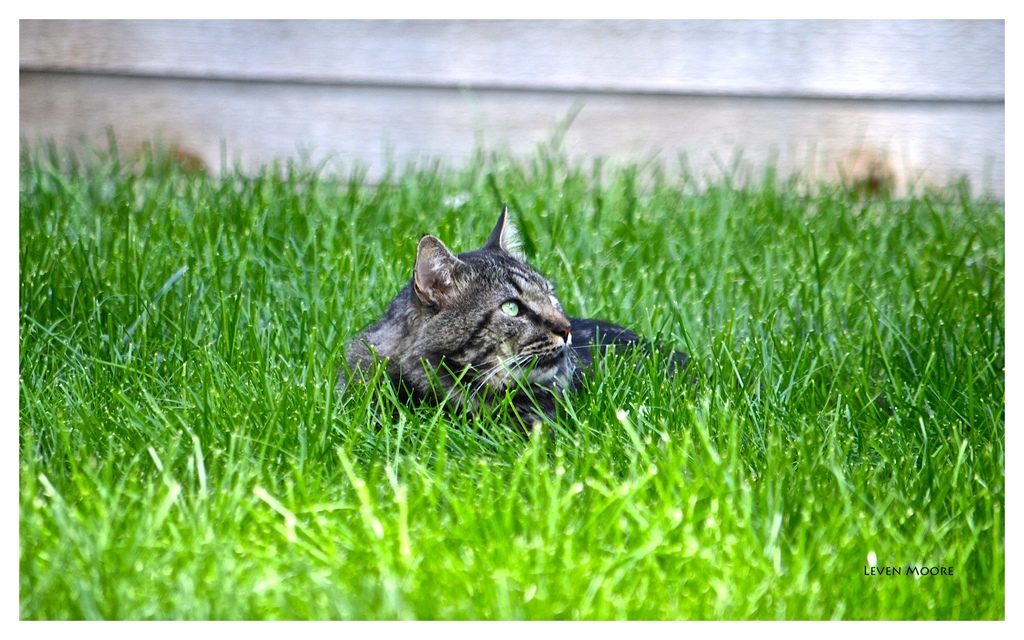cat: (343, 190, 602, 454)
